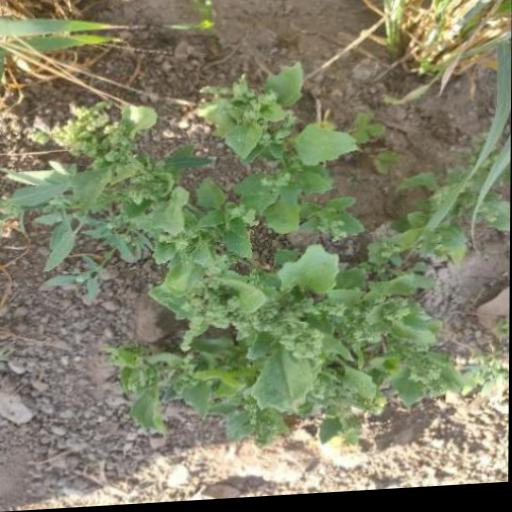weed: (32, 106, 444, 449)
